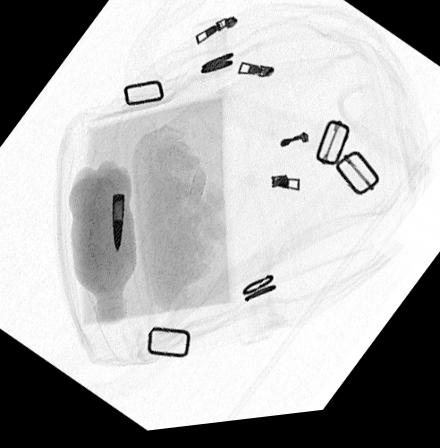Bullet: (110, 196, 123, 256)
